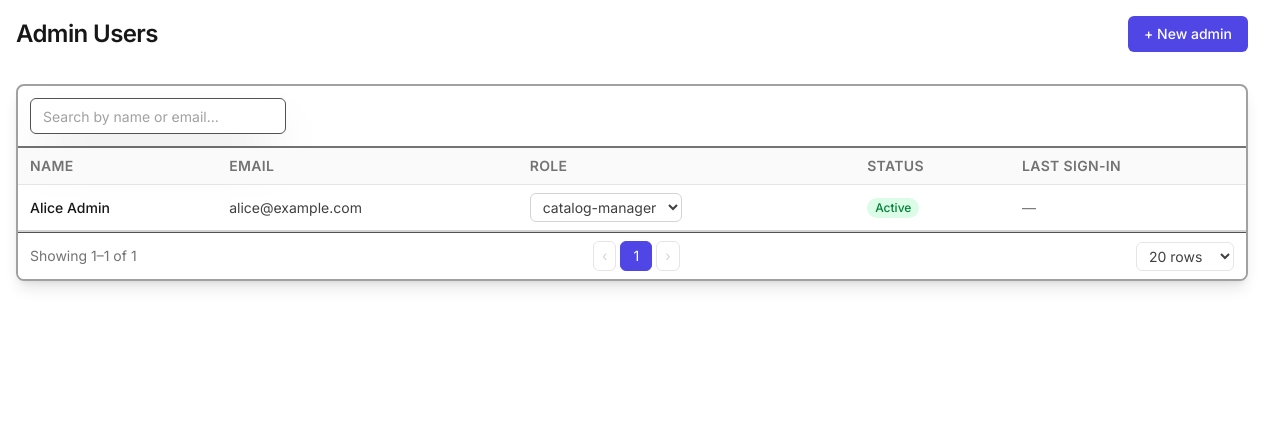
Test: AdminUsersPage › creates a new admin with no password field, and toasts a reset-email message
Expected: the text "Alice Admin" is shown, 30,198 -> 110,216
Click the button "+ New admin" at (1188, 34), box 1128,16 -> 1248,52
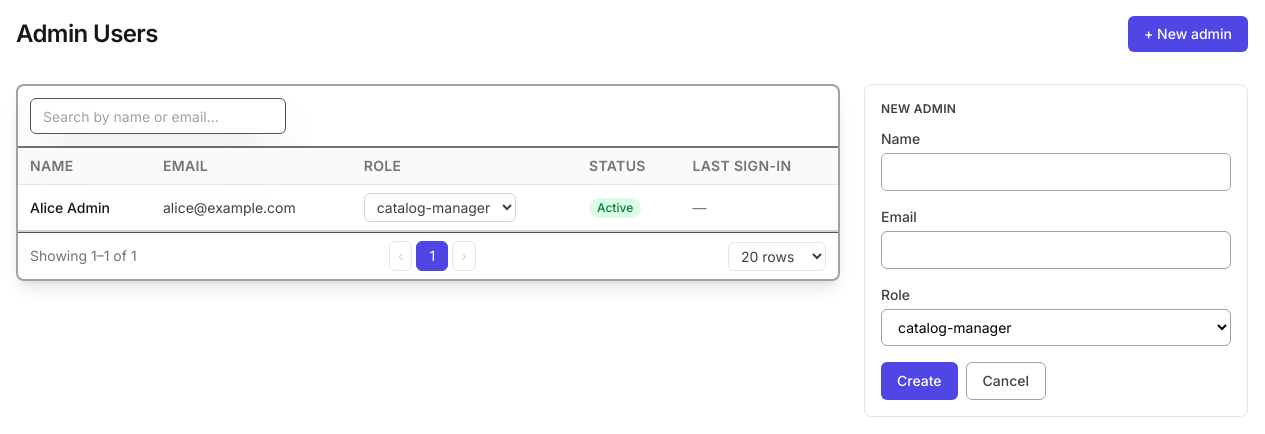
Type "Nova Admin" into the field labelled "Name" at (1056, 172), box 881,153 -> 1231,191
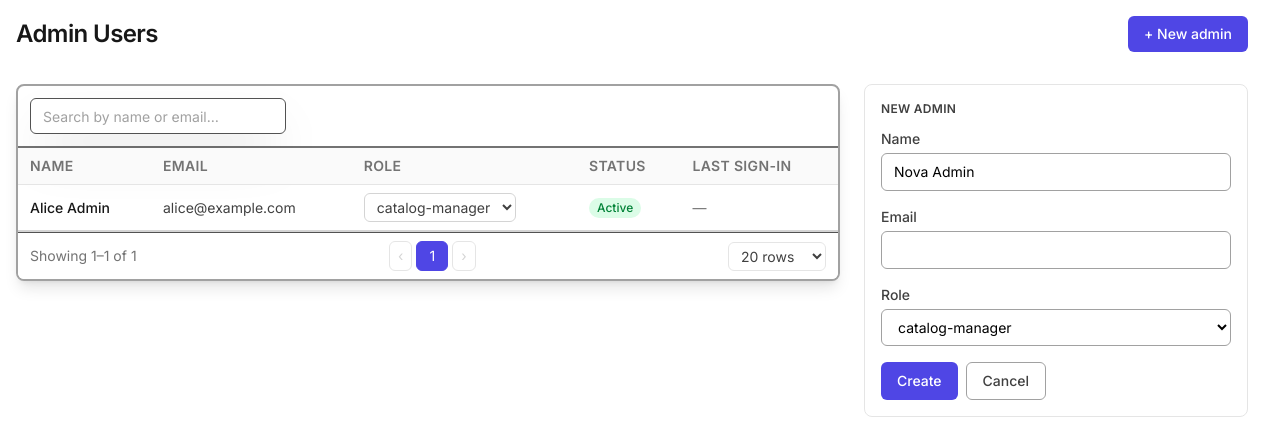
Type "nova@example.com" into the field labelled "Email" at (1056, 250), box 881,231 -> 1231,269
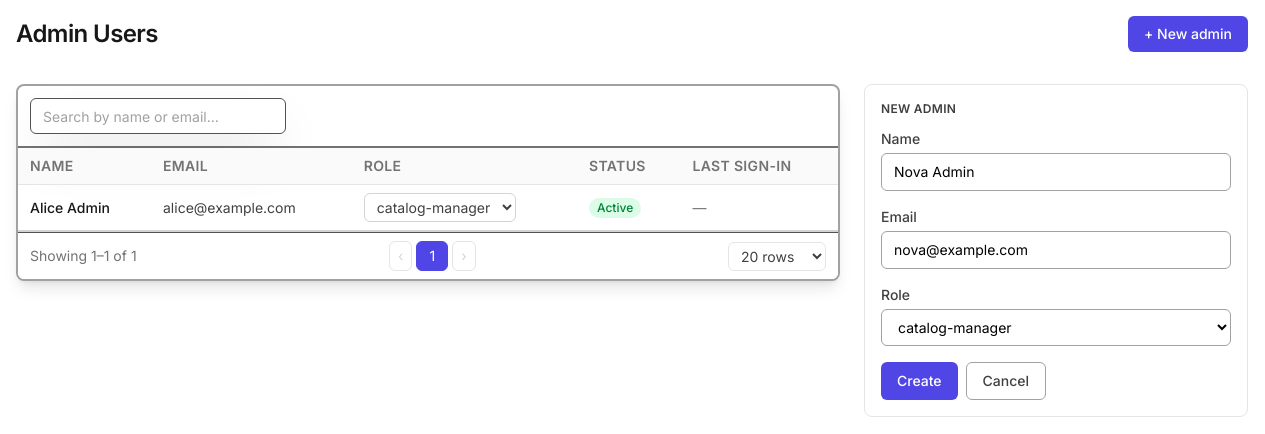
Click the button "Create" at (919, 381), box 881,362 -> 958,400
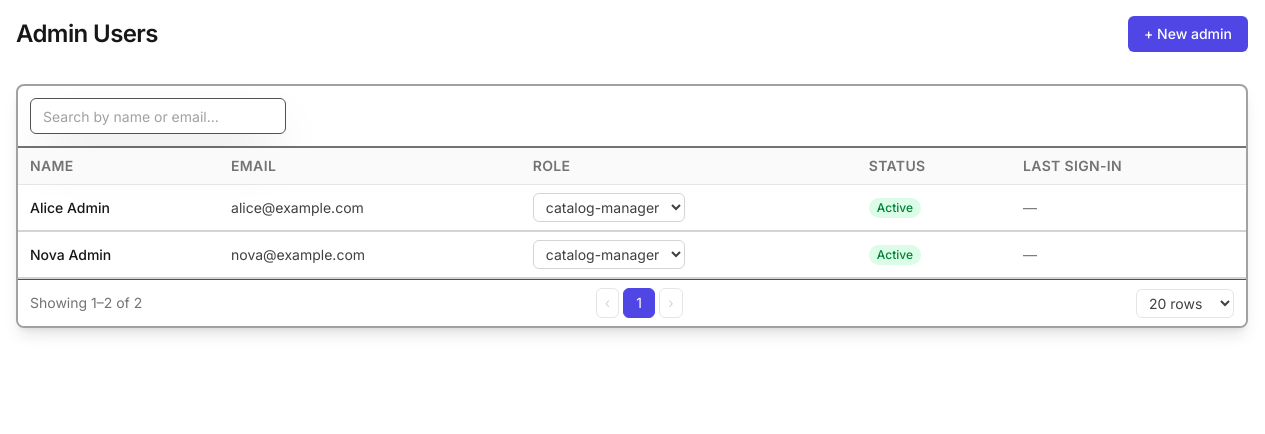
Expected: the text "Nova Admin" is shown, 30,246 -> 111,262
